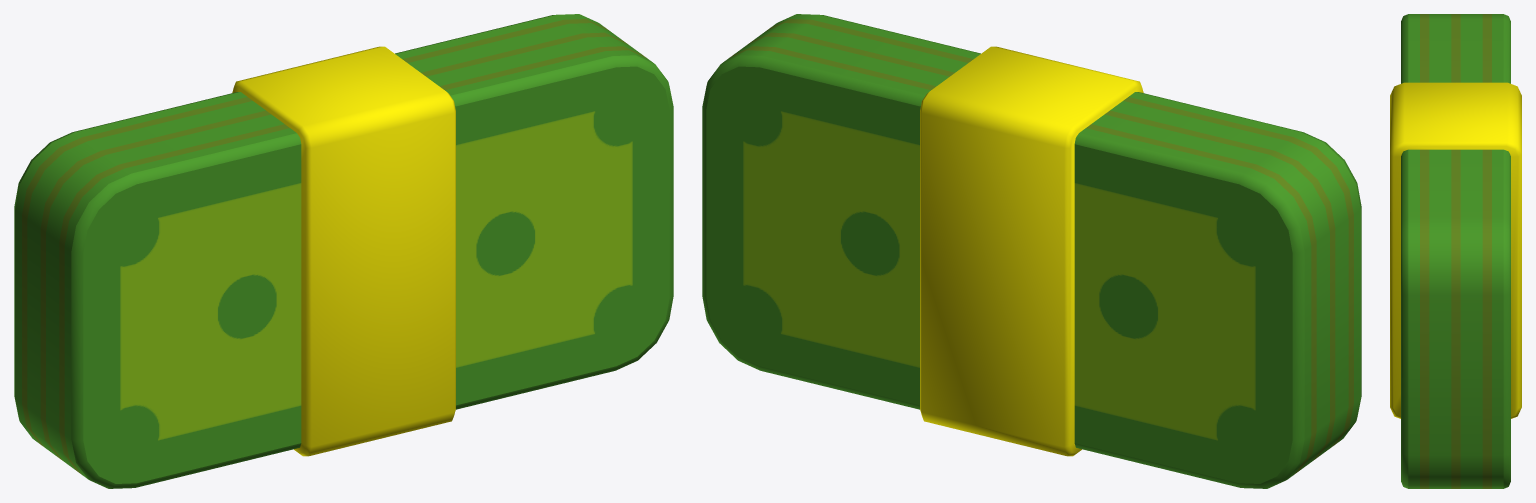
File: MoneyPile1.fbx
The picture shows the model from 3 angles, left to right: view 1: azimuth 30°, elevation 25°; view 2: azimuth 150°, elevation 25°; view 3: azimuth 270°, elevation 25°; orthographic projection. The views are drawn at different scales.
Visible parts, largest first — view 1: MoneyPile1; view 2: MoneyPile1; view 3: MoneyPile1.
Part boxes in pixels (box(x1,y1,x2,y2)): MoneyPile1: box(14, 14, 673, 488); MoneyPile1: box(702, 14, 1361, 488); MoneyPile1: box(1390, 14, 1521, 488).
Bounding box in the file's own units: 400 × 210 × 89.94.
